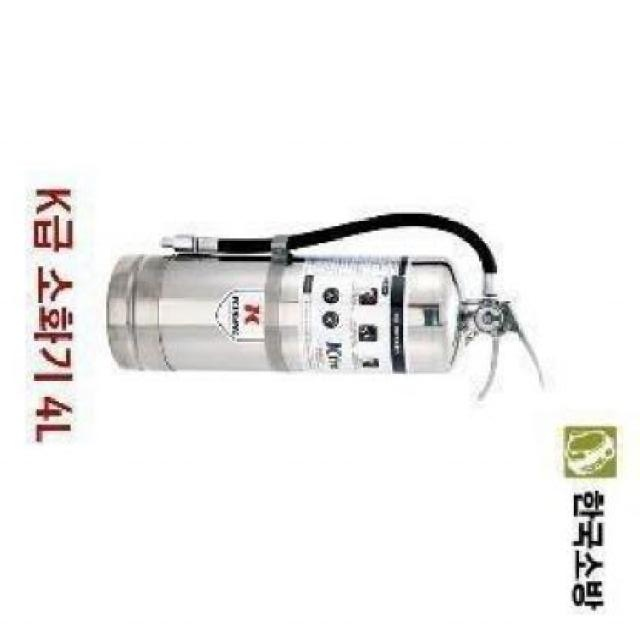fire extinguisher: (106, 212, 546, 400)
